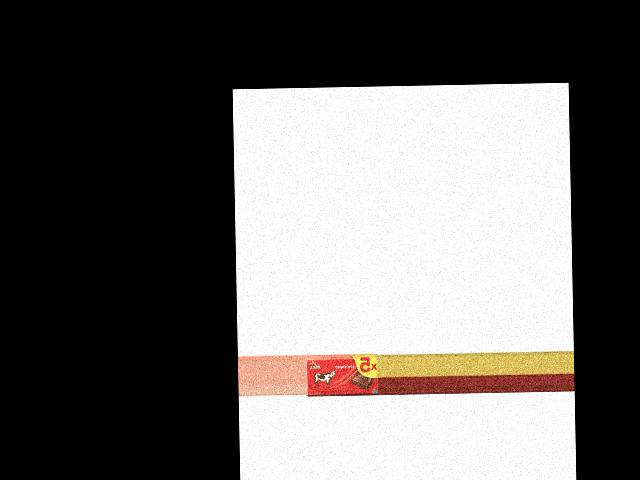chocolate: (304, 352, 378, 396)
